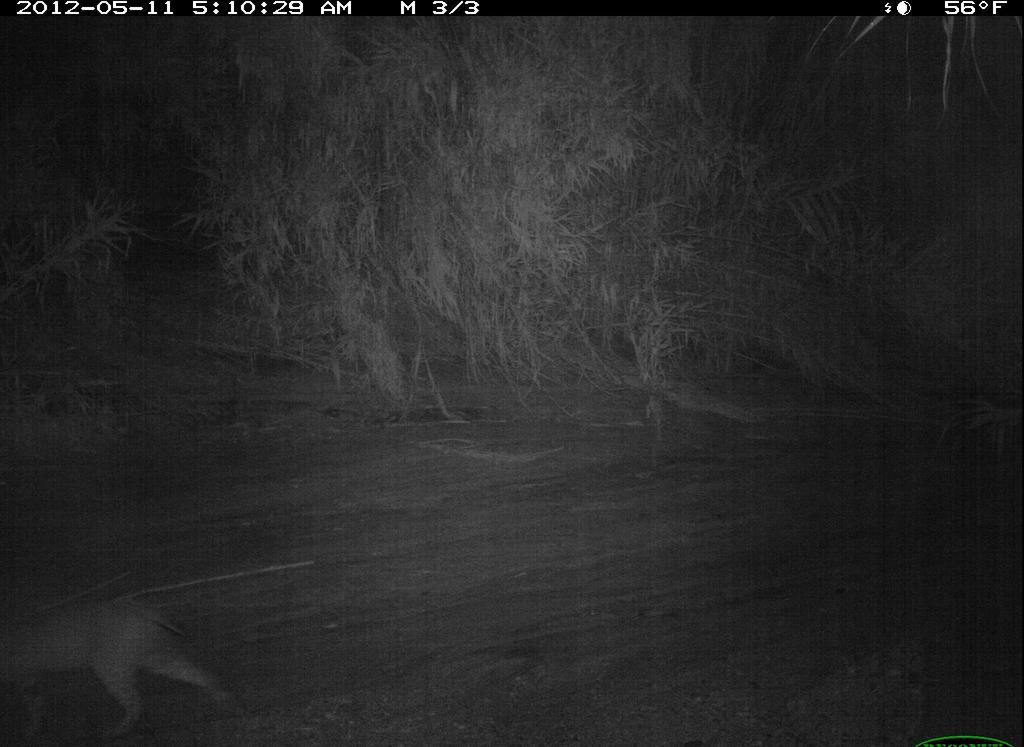bobcat: (4, 582, 245, 737)
